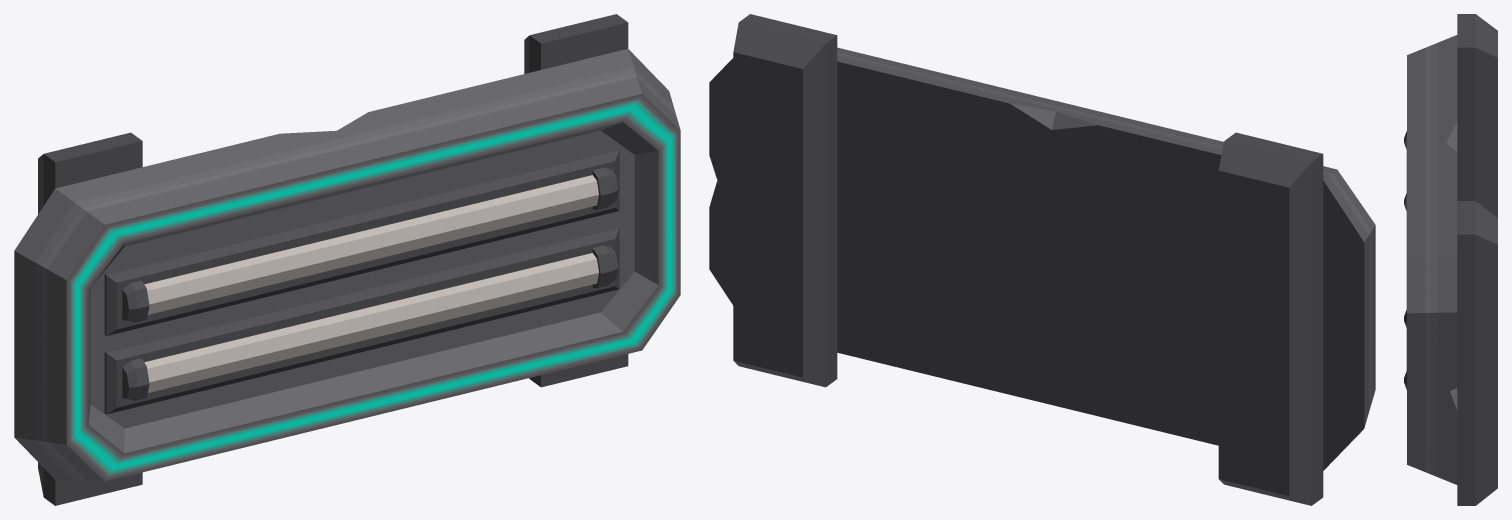
Rendered from SM_Prop_Street_Light_11.fbx.
3 renders of one model, left to right at view 1: azimuth 30°, elevation 25°; view 2: azimuth 150°, elevation 25°; view 3: azimuth 270°, elevation 25°, orthographic. The views are drawn at different scales.
Visible parts, largest first — view 1: SM_Prop_Street_Light_11; view 2: SM_Prop_Street_Light_11; view 3: SM_Prop_Street_Light_11.
Part boxes in pixels (x1=…): SM_Prop_Street_Light_11: x1=14, y1=14, x2=680, y2=505; SM_Prop_Street_Light_11: x1=709, y1=14, x2=1375, y2=505; SM_Prop_Street_Light_11: x1=1404, y1=14, x2=1497, y2=505.
Size of the model in its own units: 121 by 60.5 by 18.98.
